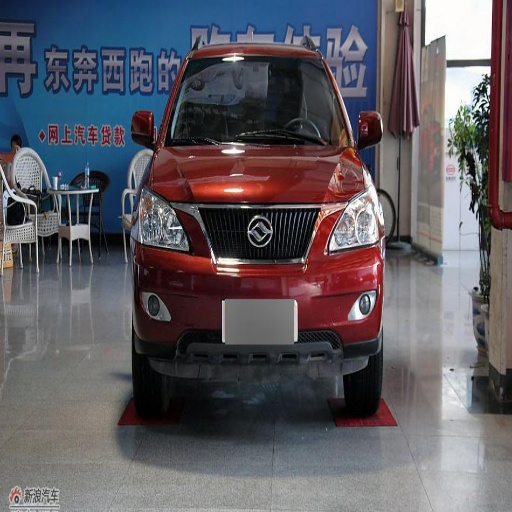back_right_light: (130, 202, 382, 370)
front_bumper: (165, 56, 348, 146)
front_left_door: (327, 188, 387, 253)
front_right_door: (129, 188, 195, 254)
front_right_light: (149, 145, 366, 205)
hood: (356, 111, 384, 148)
left_mirror: (132, 111, 155, 147)
trunk: (133, 354, 185, 420), (337, 355, 382, 416)
